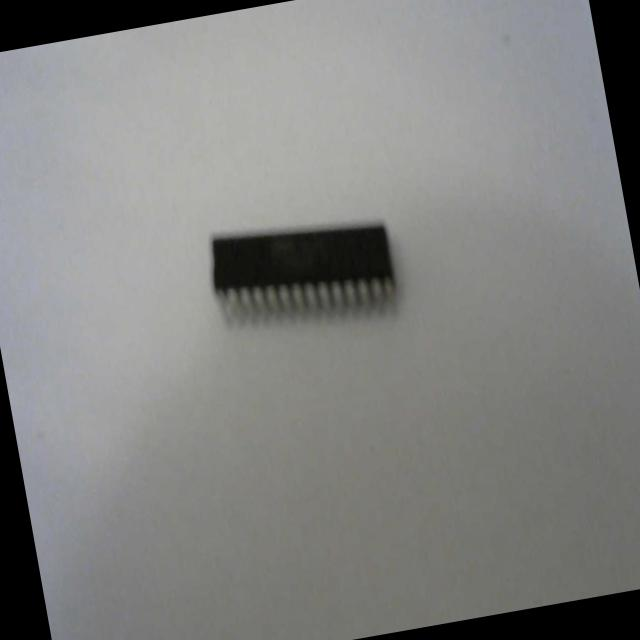atmega: (200, 198, 404, 346)
